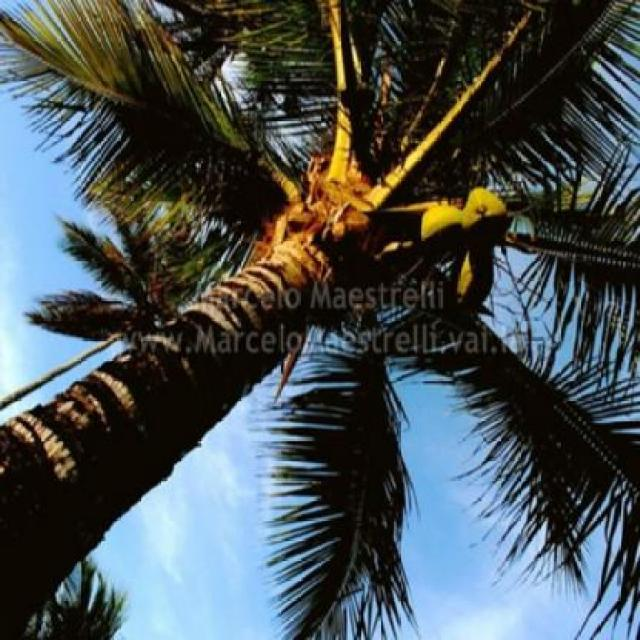Coconut: (0, 0, 638, 638), (419, 176, 510, 308)
